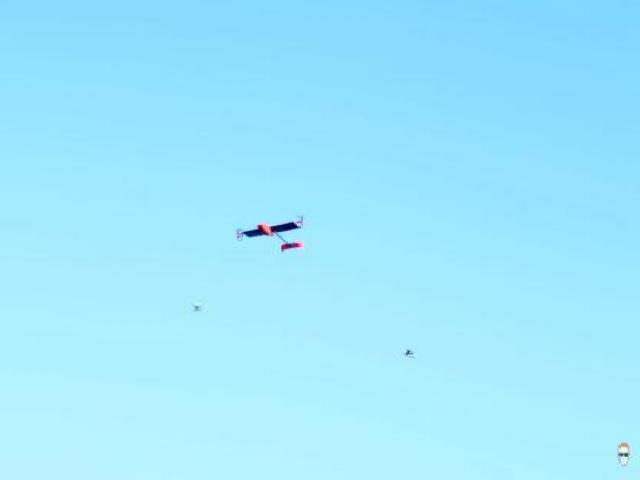uav: (226, 211, 316, 254)
